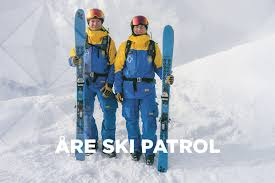skis: (151, 24, 176, 175), (68, 5, 90, 163)
